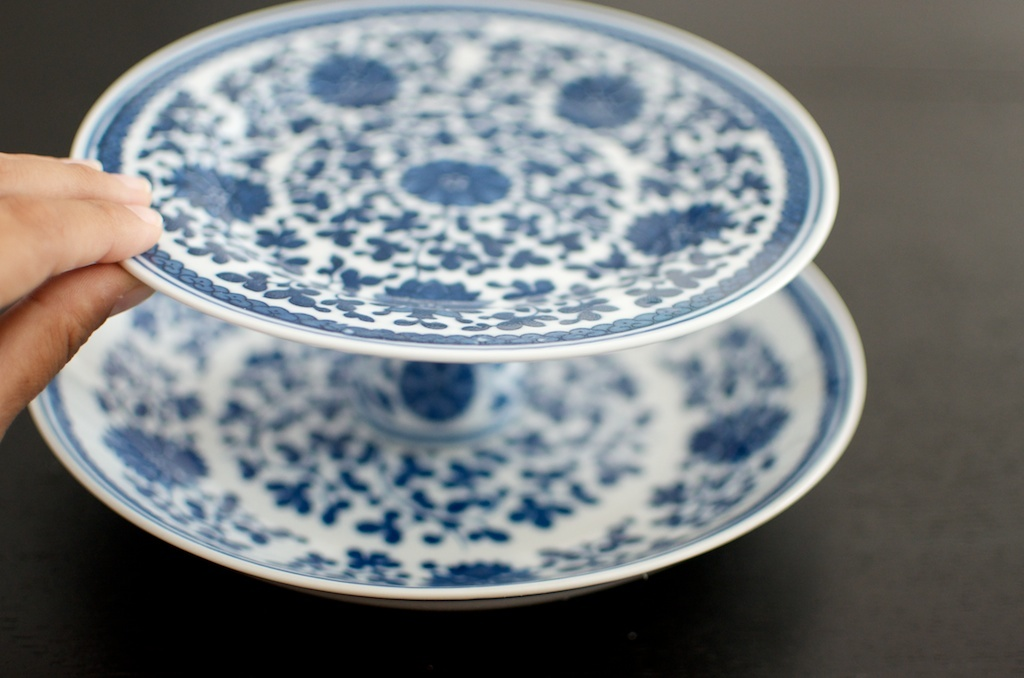plate: (69, 0, 839, 364)
